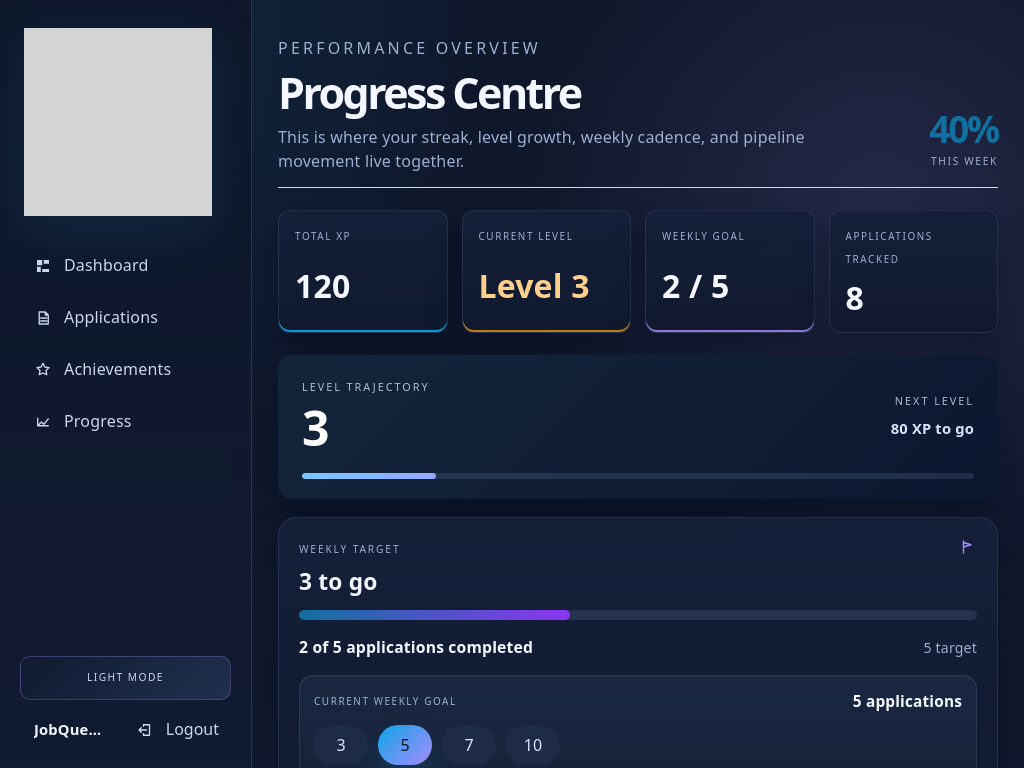
ProgressPage weekly goal editor › shows a clear error message when saving fails
Click the button "10": x=533, y=745 [506,725,560,765]
(page scrolled)
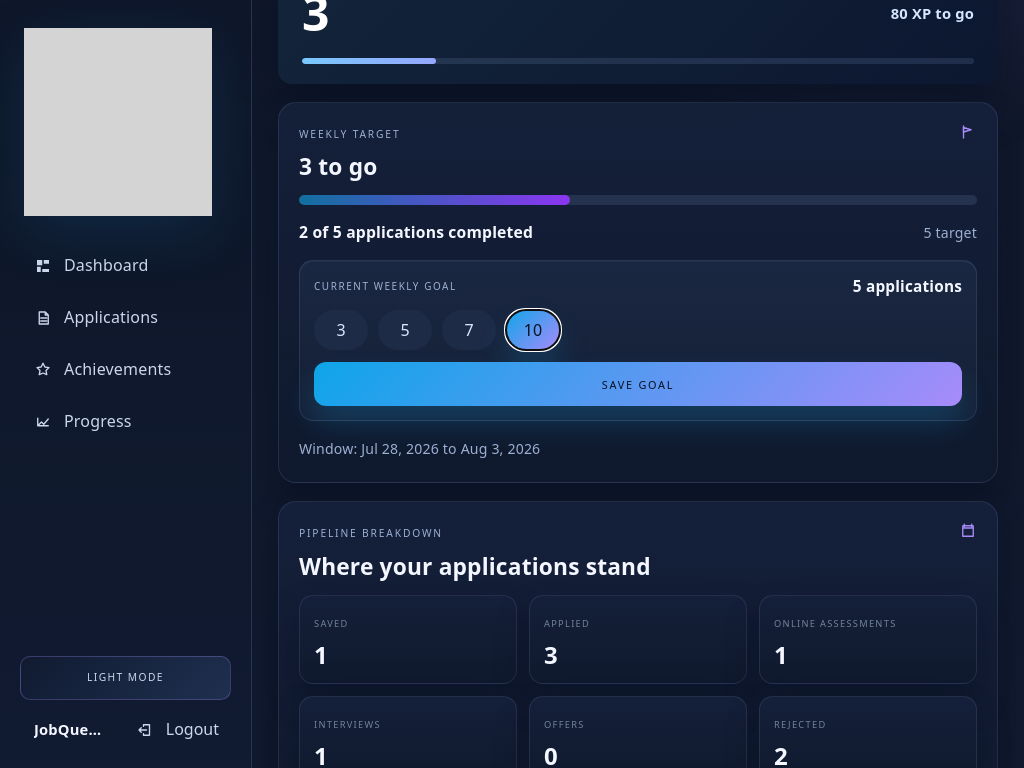
Click the button "Save goal": x=638, y=384 [314,362,962,406]
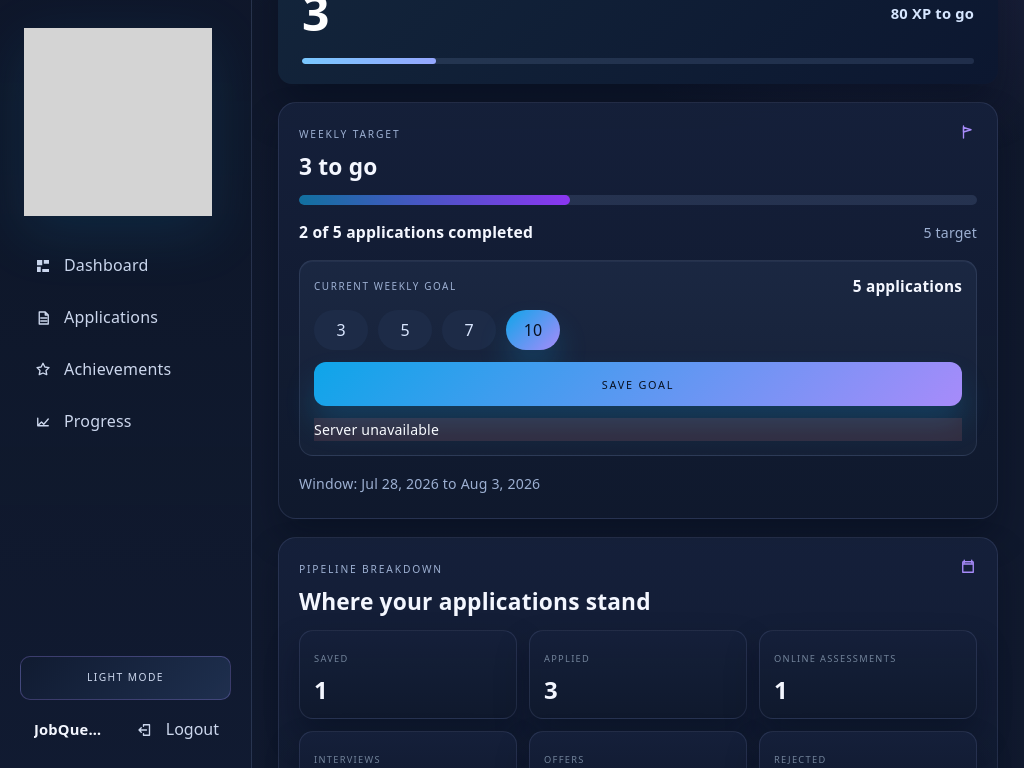
Expected: the text "Server unavailable" is shown, [314,418,962,442]
